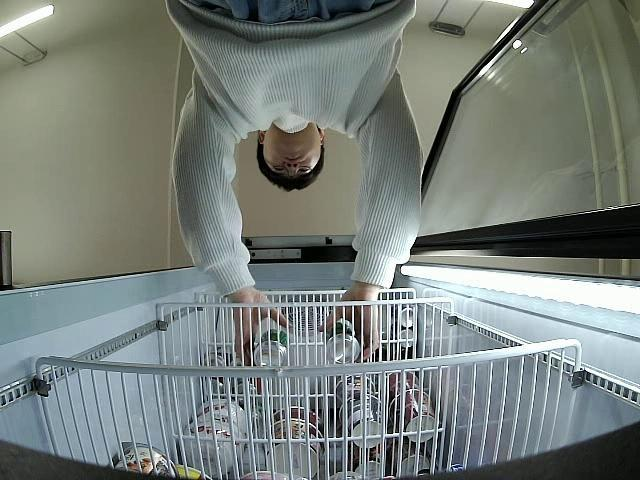12_chilsungCider: (254, 330, 292, 370), (326, 322, 362, 364)
